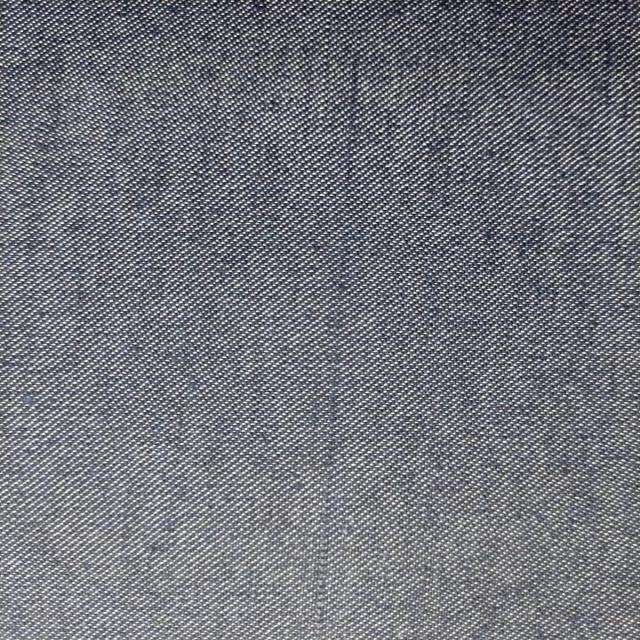Line: (312, 32, 368, 638)
